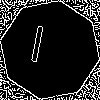I: (25, 25, 48, 73)
